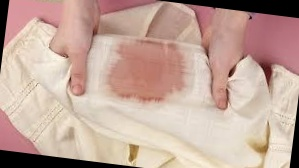wine: (102, 36, 185, 106)
